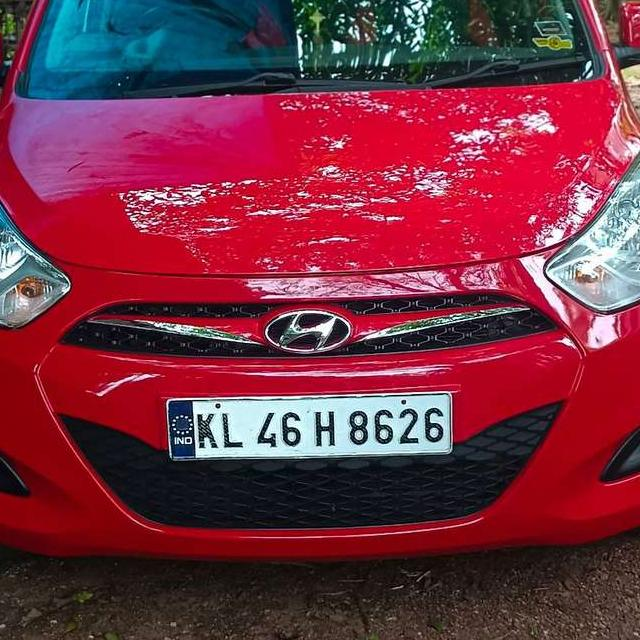Indian_Number_Plate: (170, 392, 455, 460)
